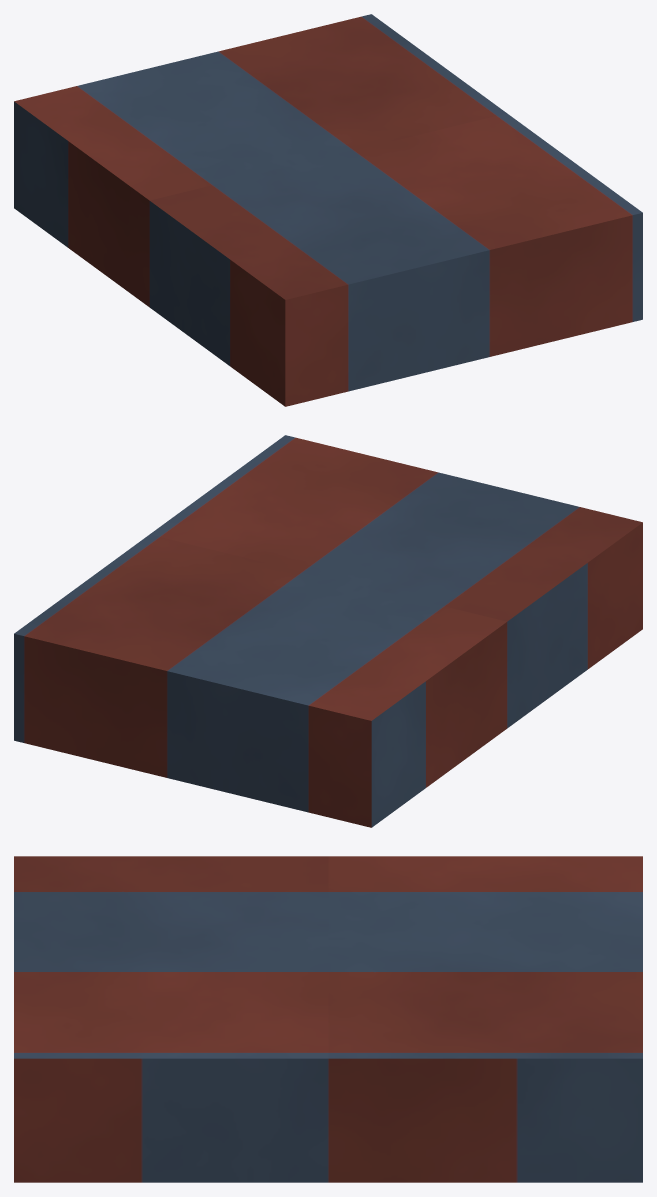
The model's file is Book_5_LOD1.gltf.
3 renders of one model, top to bottom at view 1: azimuth 30°, elevation 25°; view 2: azimuth 150°, elevation 25°; view 3: azimuth 270°, elevation 25°, orthographic. The views are drawn at different scales.
Parts seen in each view (by area): view 1: Book_5_LOD1; view 2: Book_5_LOD1; view 3: Book_5_LOD1.
Boxes of the visible parts, x1,y1,x2,y2 form: Book_5_LOD1: (14, 14, 642, 406); Book_5_LOD1: (14, 435, 642, 827); Book_5_LOD1: (14, 856, 642, 1182).
Bounding box in the file's own units: 0.21 × 0.06 × 0.2761.
1 material, 1 textured.
